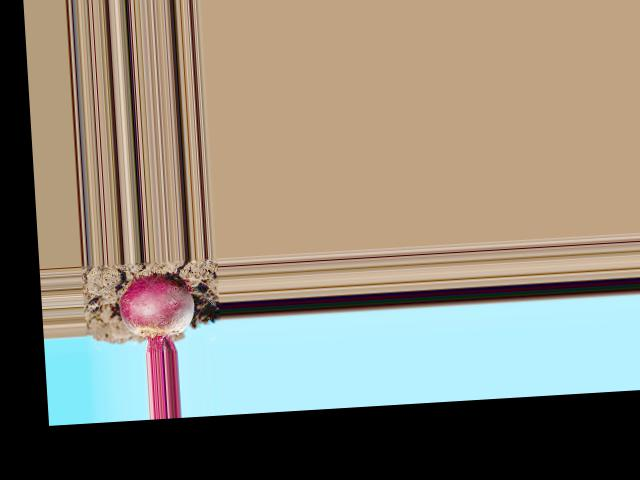beet: (118, 272, 197, 354)
